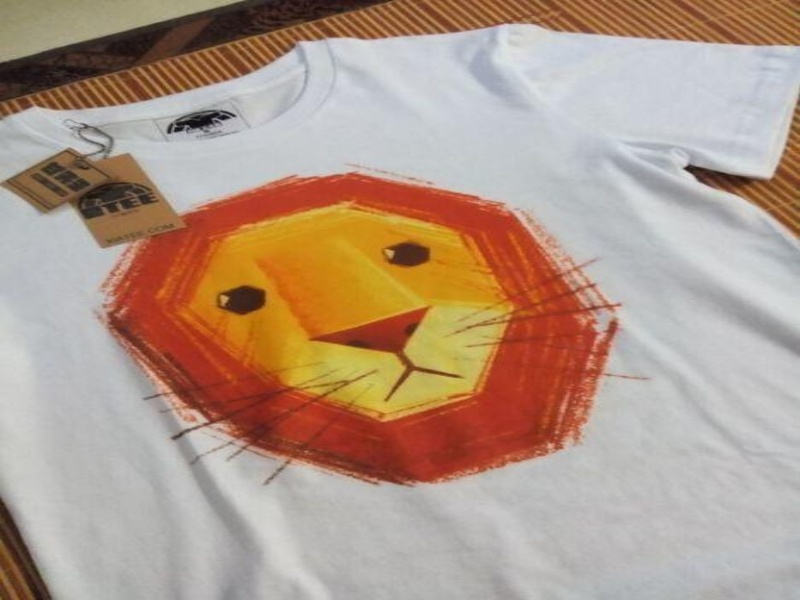short_sleeved_shirt: (0, 22, 798, 599)
